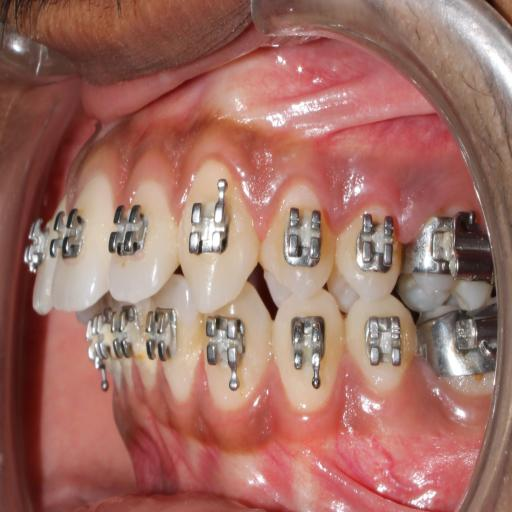correct_brace: (261, 188, 334, 302), (188, 198, 228, 260), (107, 203, 148, 258), (48, 208, 88, 261)
incorrect_brace: (104, 171, 177, 308), (282, 202, 326, 270)
